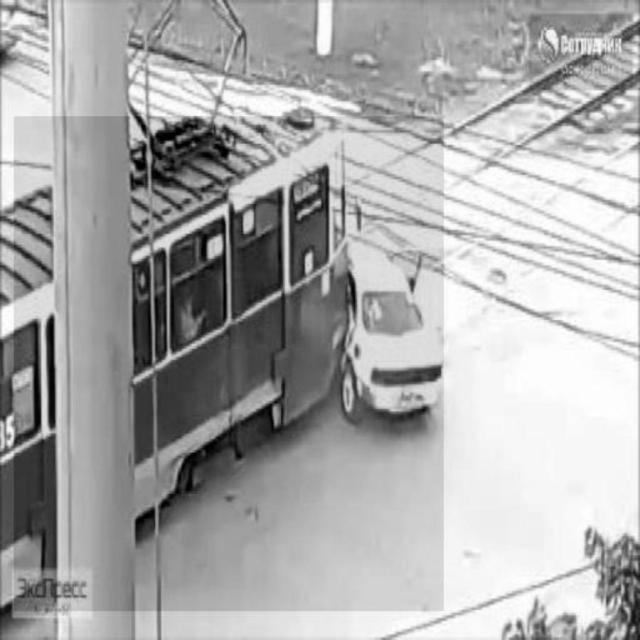accident: (14, 117, 444, 612)
